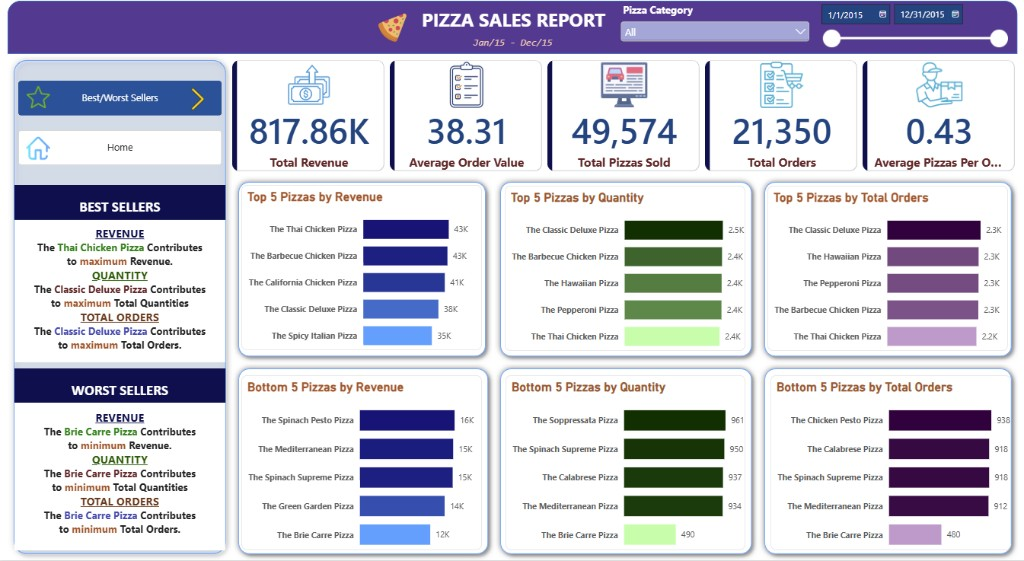

The page's visual inventory and layout, read from the dashboard file:
{"tool":"powerbi","page":{"name":"Best/Worst Sellers","canvas":[1500,820],"ordinal":1},"visuals":[{"type":"shape","box":[12.5,81.2,327.5,738.8],"z":0},{"type":"cardVisual","fields":{"Data":["pizza_sales.Total Revenue","pizza_sales.Average Order Value","pizza_sales.Total Pizzas Sold","pizza_sales.Total Orders","pizza_sales.Average Pizzas Per Order"]},"box":[340,90,1146.2,162.5],"z":1000},{"type":"shape","box":[12.5,3.8,1473.8,77.5],"z":2000},{"type":"textbox","box":[165,12.5,1170,41.2],"z":3000},{"type":"textbox","box":[110,53.8,1278.8,176.2],"z":4000},{"type":"image","box":[353.8,21.2,441.2,42.5],"z":5000},{"type":"shape","box":[22.5,310,307.5,221.2],"z":6000},{"type":"textbox","box":[22.5,272.5,307.5,51.2],"z":7000},{"type":"textbox","box":[32.5,332.5,287.5,207.5],"z":8000},{"type":"shape","box":[22.5,565,307.5,240],"z":9000},{"type":"textbox","box":[22.5,540,307.5,50],"z":10000},{"type":"slicer","fields":{"Values":["pizza_sales.pizza_category"]},"box":[902.5,6.2,285,58.8],"z":11000},{"type":"slicer","fields":{"Values":["pizza_sales.cleaned_date"]},"box":[1192.5,3.8,283.8,77.5],"z":12000},{"type":"shape","box":[340,258.8,378.8,272.5],"z":13000},{"type":"shape","box":[722.5,258.8,385,272.5],"z":14000},{"type":"shape","box":[1107.5,258.8,378.8,272.5],"z":15000},{"type":"shape","box":[340,531.2,382.5,288.8],"z":16000},{"type":"shape","box":[722.5,531.2,385,288.8],"z":17000},{"type":"shape","box":[1107.5,531.2,378.8,288.8],"z":18000},{"type":"barChart","title":"Top 5 Pizzas by Revenue","fields":{"Category":["pizza_sales.pizza_name"],"Y":["pizza_sales.Total Revenue"]},"box":[353.8,272.5,351.2,241.2],"z":19000},{"type":"barChart","title":"Bottom 5 Pizzas by Revenue","fields":{"Category":["pizza_sales.pizza_name"],"Y":["pizza_sales.Total Revenue"]},"box":[353.8,550,351.2,255],"z":20000},{"type":"barChart","title":"Top 5 Pizzas by Quantity","fields":{"Category":["pizza_sales.pizza_name"],"Y":["pizza_sales.Total Pizzas Sold"]},"box":[737.5,273.8,351.2,241.2],"z":21000},{"type":"barChart","title":"Bottom 5 Pizzas by Quantity","fields":{"Category":["pizza_sales.pizza_name"],"Y":["pizza_sales.Total Pizzas Sold"]},"box":[738.8,550,350,255],"z":22000},{"type":"barChart","title":"Top 5 Pizzas by Total Orders","fields":{"Category":["pizza_sales.pizza_name"],"Y":["pizza_sales.Total Orders"]},"box":[1121.2,273.8,351.2,241.2],"z":23000},{"type":"barChart","title":"Bottom 5 Pizzas by Total Orders","fields":{"Category":["pizza_sales.pizza_name"],"Y":["pizza_sales.Total Orders"]},"box":[1125,550,351.2,255],"z":24000},{"type":"textbox","box":[32.5,601.2,287.5,203.8],"z":25000},{"type":"pageNavigator","box":[27.5,120,297.5,51.2],"z":26000},{"type":"pageNavigator","box":[27.5,192.5,297.5,51.2],"z":27000},{"type":"image","box":[273.8,127.5,32.5,37.5],"z":28000},{"type":"image","box":[32.5,201.2,48.8,35],"z":29000},{"type":"image","box":[40,120,33.8,47.5],"z":30000}]}

Visuals, with their boxes in screenshot pixels (x1, y1, x2, y2), scaled from the page's 1500x820 canvas onto the 1024x561 screenshot:
shape: [left=9, top=56, right=232, bottom=560]
cardVisual - pizza_sales.Total Revenue x pizza_sales.Average Order Value: [left=232, top=62, right=1015, bottom=173]
shape: [left=9, top=3, right=1015, bottom=56]
textbox: [left=113, top=9, right=911, bottom=37]
textbox: [left=75, top=37, right=948, bottom=157]
image: [left=242, top=15, right=543, bottom=44]
shape: [left=15, top=212, right=225, bottom=363]
textbox: [left=15, top=186, right=225, bottom=221]
textbox: [left=22, top=227, right=218, bottom=369]
shape: [left=15, top=387, right=225, bottom=551]
textbox: [left=15, top=369, right=225, bottom=404]
slicer - pizza_sales.pizza_category: [left=616, top=4, right=811, bottom=44]
slicer - pizza_sales.cleaned_date: [left=814, top=3, right=1008, bottom=56]
shape: [left=232, top=177, right=491, bottom=363]
shape: [left=493, top=177, right=756, bottom=363]
shape: [left=756, top=177, right=1015, bottom=363]
shape: [left=232, top=363, right=493, bottom=560]
shape: [left=493, top=363, right=756, bottom=560]
shape: [left=756, top=363, right=1015, bottom=560]
"Top 5 Pizzas by Revenue" barChart: [left=242, top=186, right=481, bottom=351]
"Bottom 5 Pizzas by Revenue" barChart: [left=242, top=376, right=481, bottom=551]
"Top 5 Pizzas by Quantity" barChart: [left=503, top=187, right=743, bottom=352]
"Bottom 5 Pizzas by Quantity" barChart: [left=504, top=376, right=743, bottom=551]
"Top 5 Pizzas by Total Orders" barChart: [left=765, top=187, right=1005, bottom=352]
"Bottom 5 Pizzas by Total Orders" barChart: [left=768, top=376, right=1008, bottom=551]
textbox: [left=22, top=411, right=218, bottom=551]
pageNavigator: [left=19, top=82, right=222, bottom=117]
pageNavigator: [left=19, top=132, right=222, bottom=167]
image: [left=187, top=87, right=209, bottom=113]
image: [left=22, top=138, right=56, bottom=162]
image: [left=27, top=82, right=50, bottom=115]
